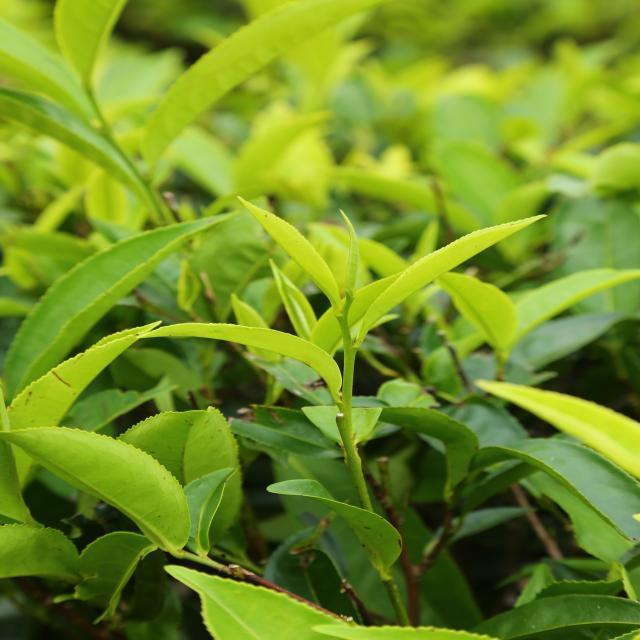Stem: (100, 127, 128, 158), (344, 348, 353, 379)
